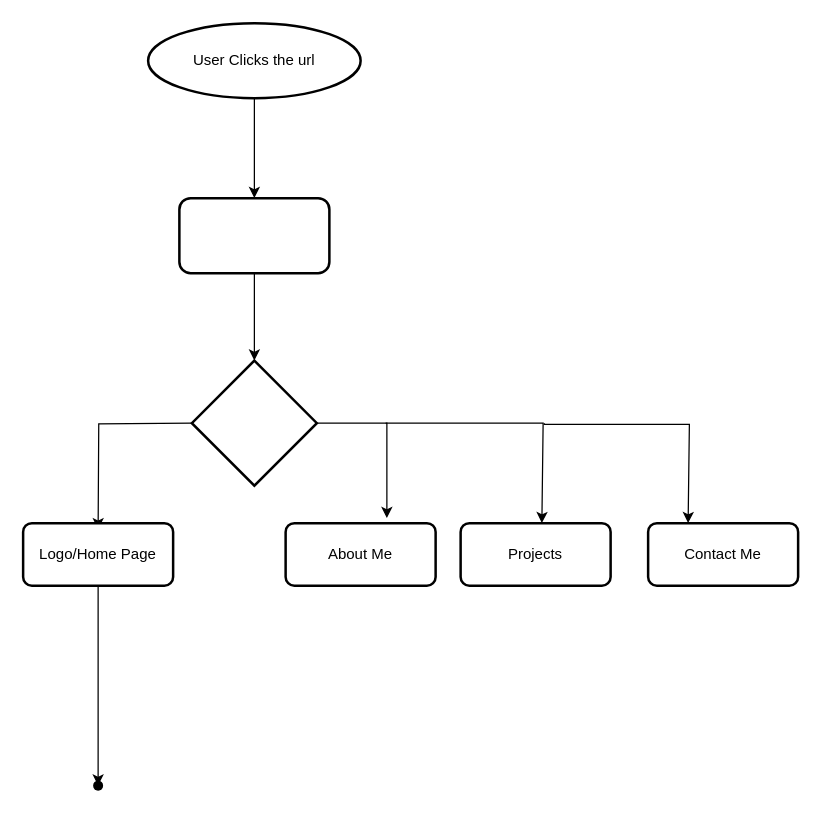
This 820x820 diagram has some shape labels left out. The shapes that lost their labels are listed below. From the top down, each one's centre as x and y in pixels, then its label:
At (x=254, y=235): "Navigation Menu".
At (x=254, y=422): "User Button Clicks".
